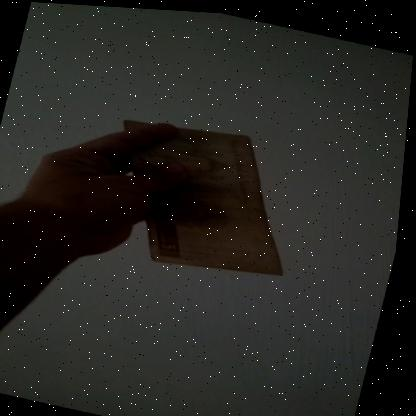five-back-vef: (92, 105, 317, 286)
